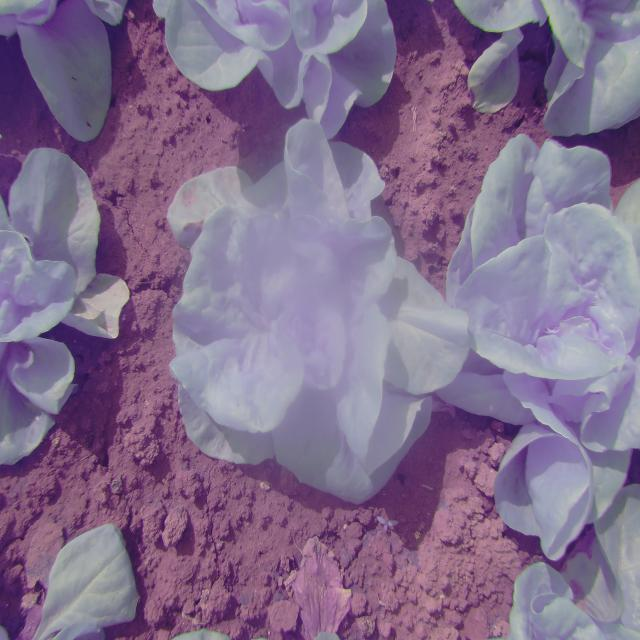vege: (150, 120, 455, 508)
